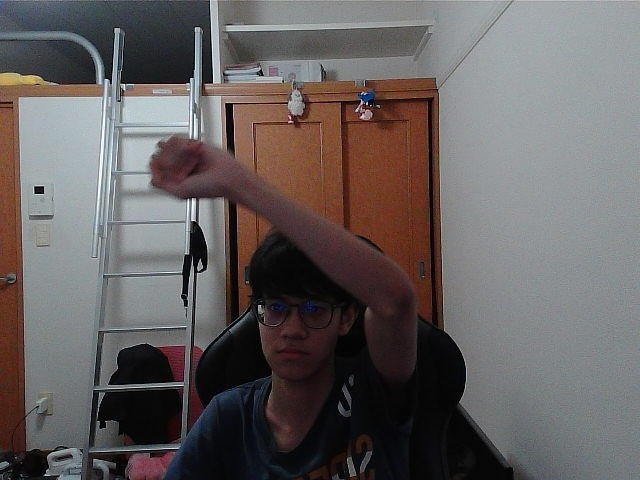closed_palm: (156, 139, 226, 191)
